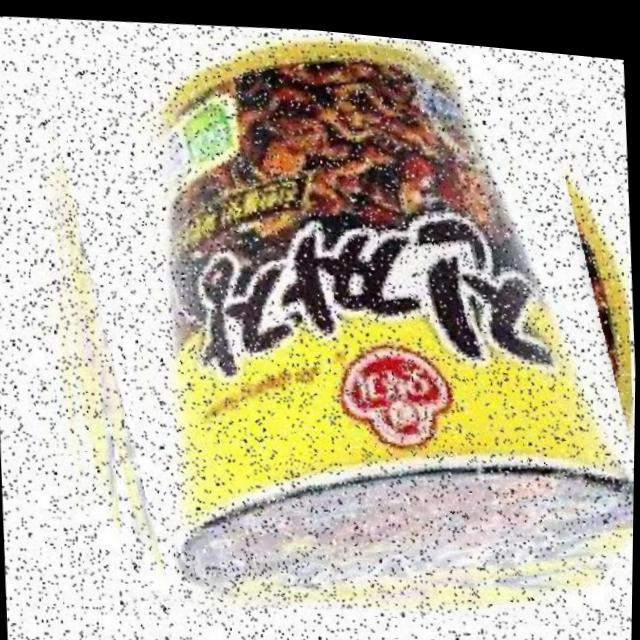Miscellaneous: (36, 3, 640, 640)
